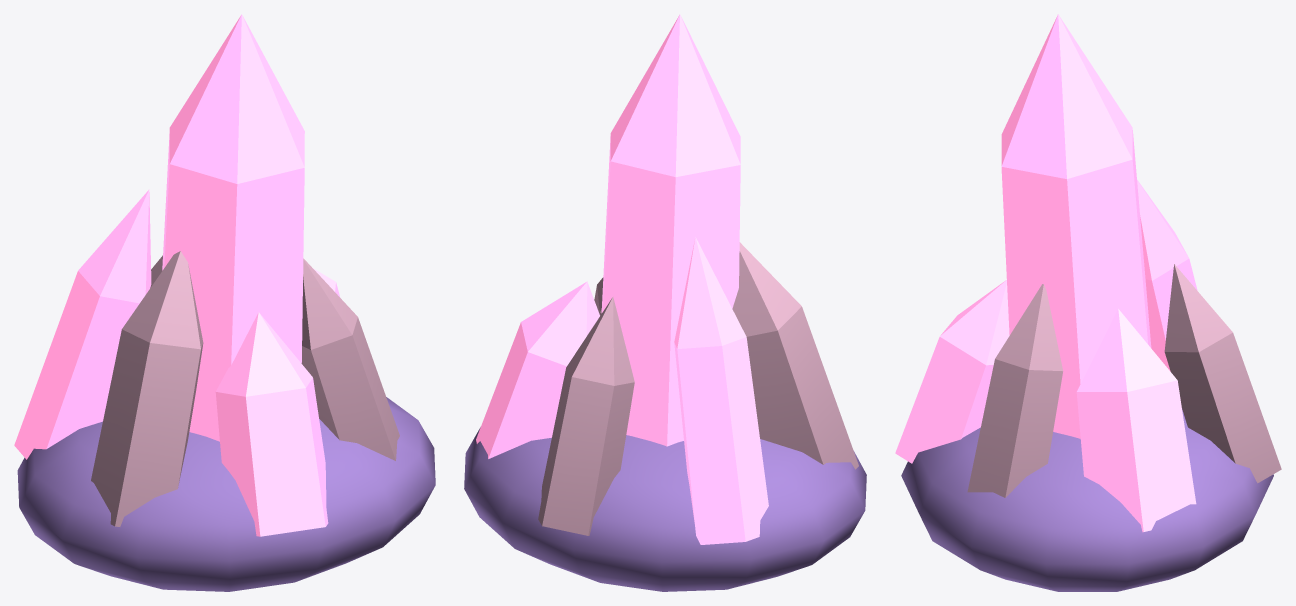
Rendered from bg_cry_pink.glb.
3 views of the same model, side by side, from view 1: azimuth 30°, elevation 25°; view 2: azimuth 150°, elevation 25°; view 3: azimuth 270°, elevation 25° (orthographic). The views are drawn at different scales.
Visible parts, largest first — view 1: M_Cry_pink__c_pink, M_Cry_pink__c_rock, M_Cry_pink__c2_pink; view 2: M_Cry_pink__c_pink, M_Cry_pink__c_rock, M_Cry_pink__c2_pink; view 3: M_Cry_pink__c_pink, M_Cry_pink__c_rock, M_Cry_pink__c2_pink.
Boxes of the visible parts, box(x1,y1,x2,y2) form: M_Cry_pink__c_pink: box(14, 14, 340, 536); M_Cry_pink__c_rock: box(17, 397, 435, 591); M_Cry_pink__c2_pink: box(91, 251, 399, 526); M_Cry_pink__c_pink: box(476, 14, 768, 544); M_Cry_pink__c_rock: box(464, 427, 866, 591); M_Cry_pink__c2_pink: box(538, 242, 858, 535); M_Cry_pink__c_pink: box(895, 14, 1197, 532); M_Cry_pink__c_rock: box(901, 409, 1273, 591); M_Cry_pink__c2_pink: box(967, 264, 1281, 497).
Size of the model in its own units: 2.13 by 3.02 by 1.97.
